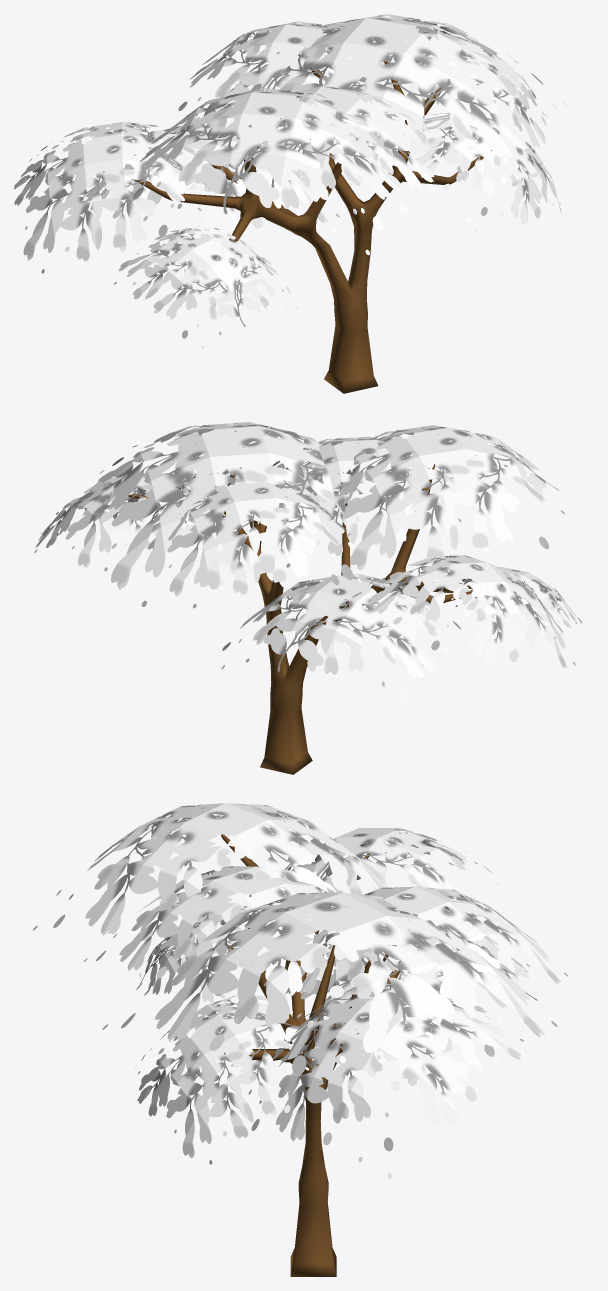
Rendered from arvoreP1_1.fbx.
The picture shows the model from 3 angles, top to bottom: view 1: azimuth 30°, elevation 25°; view 2: azimuth 150°, elevation 25°; view 3: azimuth 270°, elevation 25°; orthographic projection. The views are drawn at different scales.
Visible parts, largest first — view 1: ipe pequeno2; view 2: ipe pequeno2; view 3: ipe pequeno2.
Part boxes in pixels (bbox=[...]): ipe pequeno2: bbox=[14, 14, 568, 393]; ipe pequeno2: bbox=[34, 422, 581, 774]; ipe pequeno2: bbox=[33, 803, 567, 1276].
Bounding box in the file's own units: 771 × 441 × 607.
2 materials, 1 textured.
